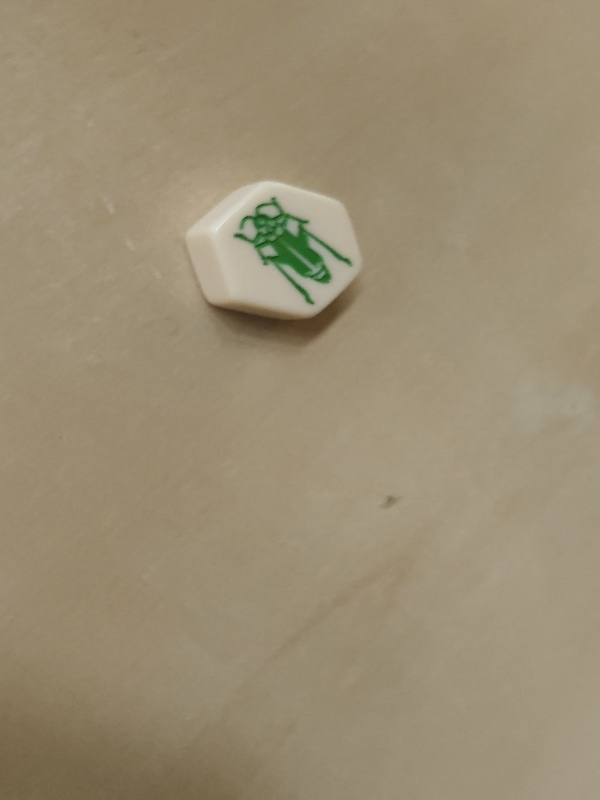white_grasshopper: (188, 178, 363, 318)
